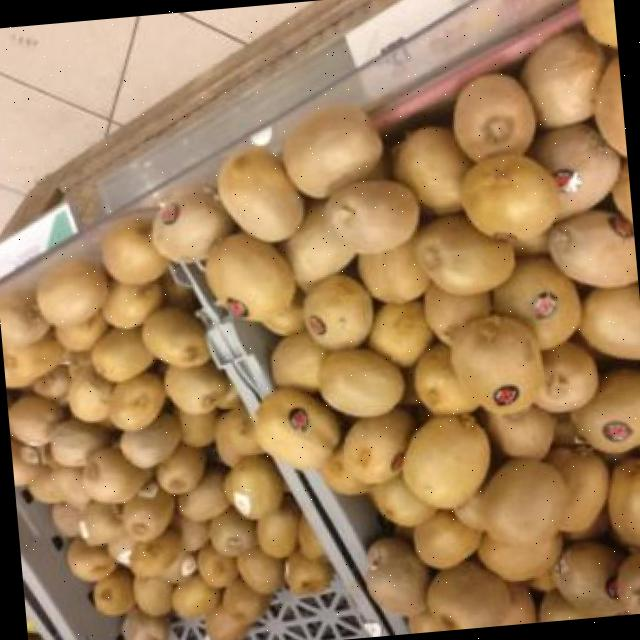kiwi: (281, 107, 382, 197), (449, 315, 543, 411), (530, 124, 619, 218), (401, 413, 489, 508), (460, 153, 557, 238), (492, 255, 579, 348), (414, 213, 513, 294), (520, 31, 604, 126), (217, 149, 302, 239), (206, 233, 292, 318), (482, 458, 567, 541), (324, 178, 418, 253), (455, 74, 535, 161), (548, 209, 637, 287), (255, 388, 339, 467), (392, 126, 469, 212), (280, 200, 354, 288), (569, 369, 640, 452), (426, 560, 508, 631), (321, 347, 403, 416), (151, 193, 233, 261), (343, 408, 413, 483), (545, 446, 608, 529), (303, 275, 372, 346), (35, 259, 107, 324), (413, 342, 477, 414), (557, 540, 621, 612), (365, 538, 426, 613), (534, 341, 598, 412), (578, 284, 640, 357), (367, 300, 432, 367), (357, 240, 427, 301), (477, 533, 562, 581), (101, 221, 167, 282), (422, 283, 489, 343), (412, 510, 481, 568), (141, 305, 205, 366), (81, 446, 147, 502), (486, 405, 555, 458), (223, 455, 281, 517), (369, 476, 436, 526), (90, 326, 152, 380), (593, 55, 626, 156), (119, 411, 178, 467), (108, 371, 164, 430), (271, 330, 325, 391), (166, 361, 228, 414), (214, 403, 262, 466), (1, 336, 60, 386), (101, 280, 160, 326), (7, 394, 60, 445), (49, 418, 106, 465), (255, 494, 298, 556), (176, 469, 228, 520), (610, 457, 640, 544), (0, 293, 48, 345), (155, 443, 204, 493), (122, 491, 172, 540), (319, 446, 370, 493), (129, 529, 181, 575), (69, 365, 110, 422), (208, 507, 255, 556), (235, 546, 283, 593), (283, 550, 332, 595), (65, 537, 115, 581), (170, 574, 219, 618), (221, 578, 269, 621), (91, 570, 134, 616), (56, 311, 106, 350), (260, 289, 303, 334), (196, 544, 237, 587), (78, 501, 119, 542), (204, 606, 251, 640), (616, 548, 640, 614), (538, 590, 587, 622), (50, 467, 88, 508), (134, 575, 171, 615), (121, 608, 166, 640), (176, 410, 214, 446), (452, 490, 484, 530), (27, 466, 63, 501), (9, 438, 35, 484), (32, 365, 67, 399), (160, 551, 194, 582), (299, 514, 322, 559), (179, 515, 207, 549), (52, 503, 79, 534), (107, 535, 134, 565), (408, 610, 441, 633)
